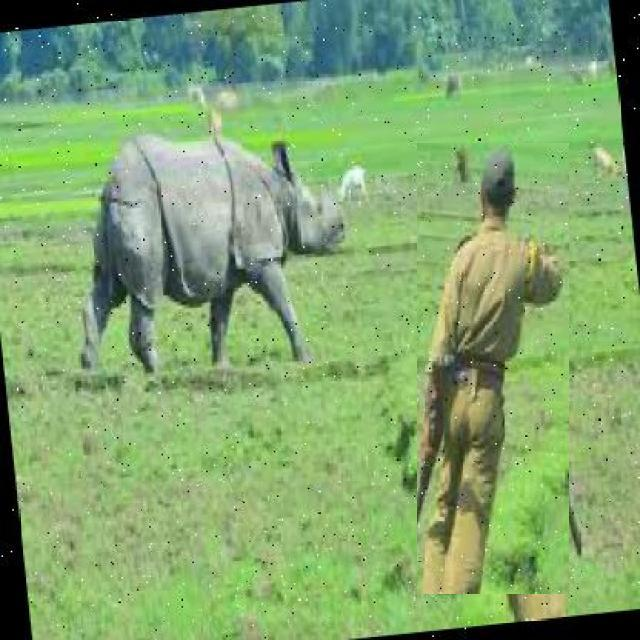p_collect: (59, 106, 386, 365)
poacher: (417, 143, 569, 594)
weapon: (540, 352, 594, 537)
